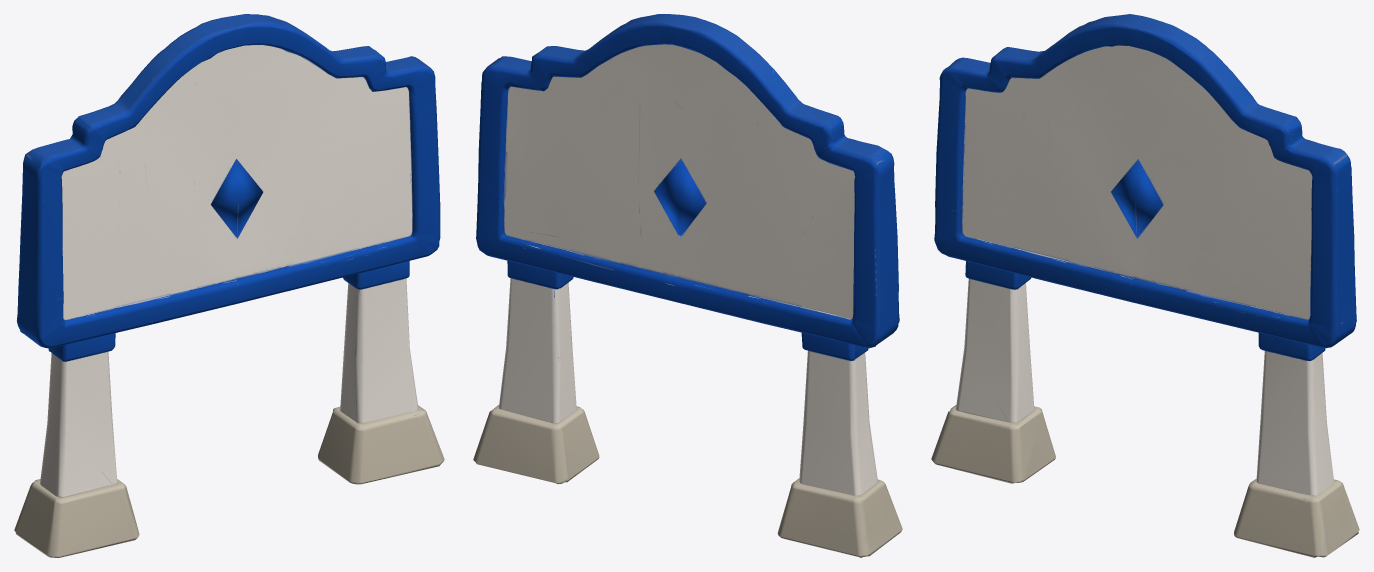
Rendered from signage_banner.glb.
3 views of the same model, side by side, from view 1: azimuth 30°, elevation 25°; view 2: azimuth 150°, elevation 25°; view 3: azimuth 330°, elevation 25° (orthographic).
Size of the model in its own units: 0.8887 by 1 by 0.1582.
Materials: 1 (1 with a texture image).
